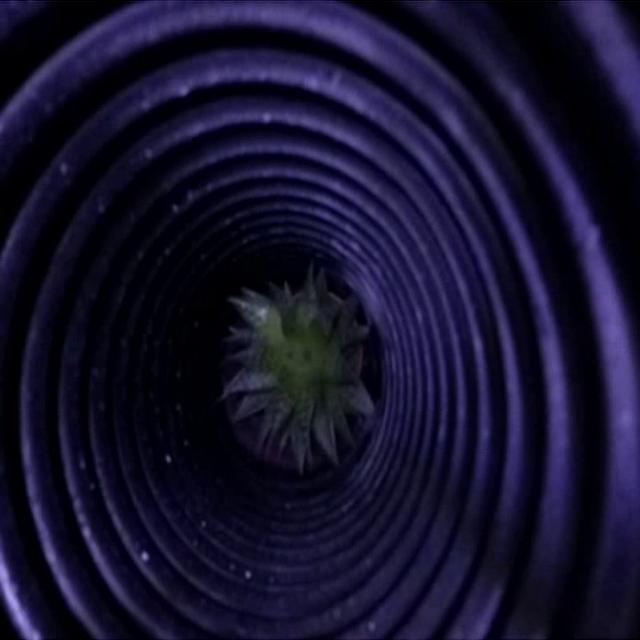leaf: (231, 277, 377, 456)
